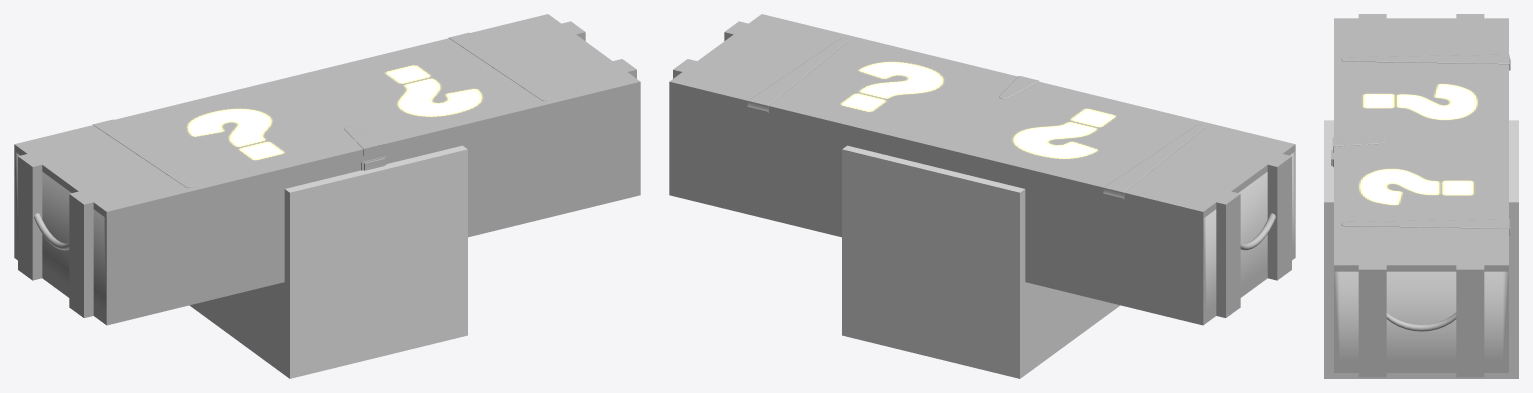
File: RandomBox.fbx
3 views of the same model, side by side, from view 1: azimuth 30°, elevation 25°; view 2: azimuth 150°, elevation 25°; view 3: azimuth 270°, elevation 25° (orthographic). The views are drawn at different scales.
Visible parts, largest first — view 1: Mystery_Tapa_3, Mysteri_Box_1, Cube; view 2: Mystery_Tapa_3, Mysteri_Box_1, Cube; view 3: Mystery_Tapa_3, Mysteri_Box_1, Cube.
Boxes of the visible parts, x1,y1,x2,y2 form: Mystery_Tapa_3: (14,14,640,218); Mysteri_Box_1: (14,21,640,325); Cube: (189,145,467,378); Mystery_Tapa_3: (669,14,1295,218); Mysteri_Box_1: (669,21,1295,325); Cube: (842,145,1120,378); Mystery_Tapa_3: (1332,18,1510,271); Mysteri_Box_1: (1331,14,1508,377); Cube: (1324,120,1518,378).
Size of the model in its own units: 622 by 223 by 200.
